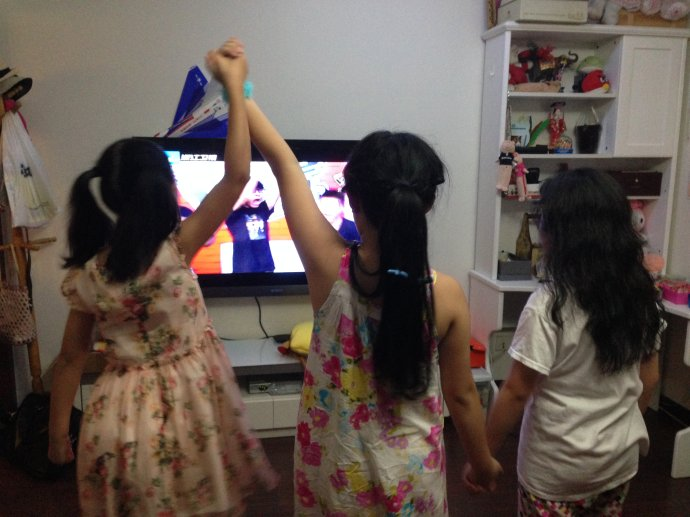handsup: (204, 16, 504, 509), (43, 42, 282, 517)
other: (461, 122, 659, 513)
